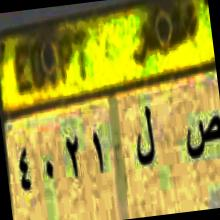0: (40, 151, 59, 193)
1: (88, 125, 110, 181)
2: (62, 132, 83, 184)
4: (12, 142, 34, 194)
laam: (129, 100, 159, 172)
saad: (182, 113, 220, 166)
